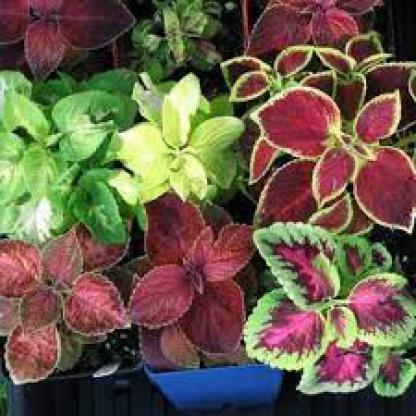Bunga Coleus: (243, 210, 415, 406), (254, 47, 415, 236), (110, 228, 230, 371), (8, 221, 114, 369)
